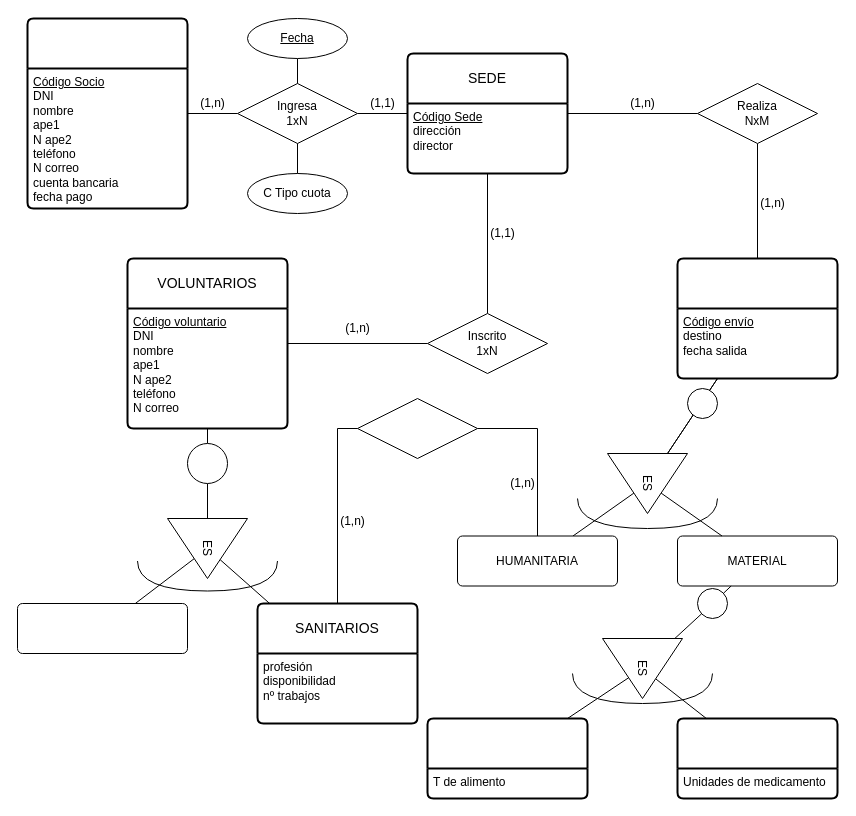
Some shapes in this 856 by 816 pixel diagram are drawn without their labels. Each missing label, with the box of its shape:
ADMINSTRATIVOS: (16, 602, 188, 654)
ALIMENTOS: (426, 717, 588, 799)
ENVIOS: (676, 257, 838, 379)
MEDICAMENTOS: (676, 717, 838, 799)
Participan NxM: (356, 398, 478, 458)
SOCIOS: (26, 17, 188, 209)
